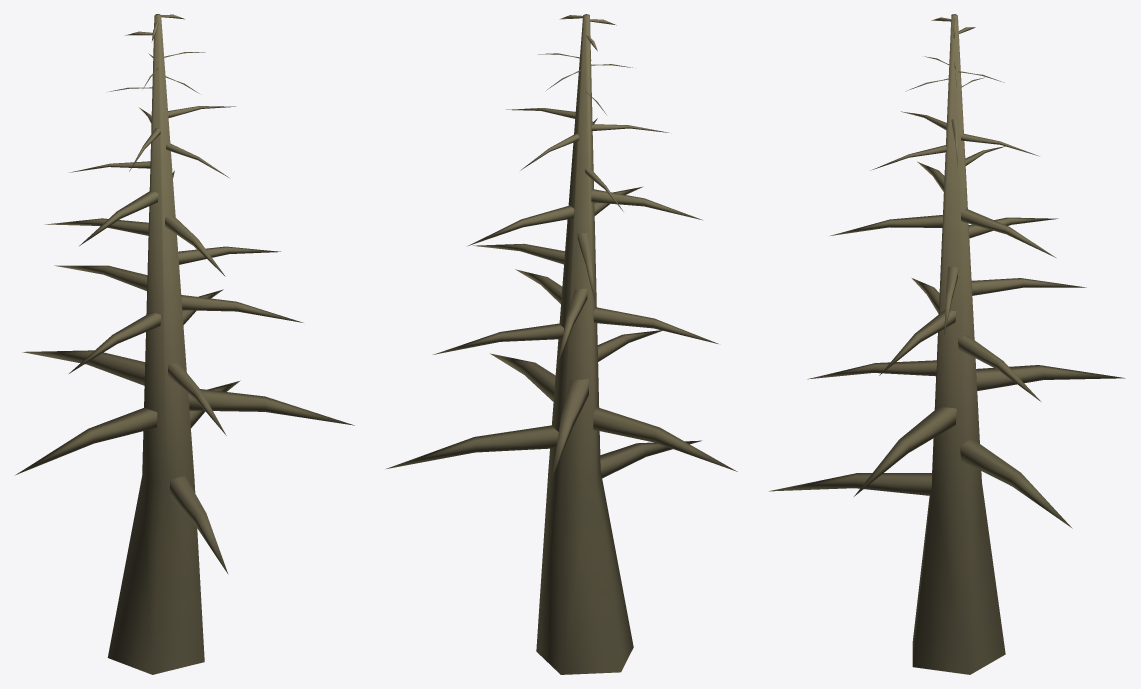
File: pack03_foliage2_26.fbx
3 renders of one model, left to right at view 1: azimuth 30°, elevation 25°; view 2: azimuth 150°, elevation 25°; view 3: azimuth 270°, elevation 25°, orthographic.
Visible parts, largest first — view 1: Tree.024; view 2: Tree.024; view 3: Tree.024.
Part boxes in pixels (x1=…): Tree.024: x1=15, y1=14, x2=354, y2=674; Tree.024: x1=385, y1=14, x2=737, y2=674; Tree.024: x1=769, y1=14, x2=1125, y2=674.
Bounding box in the file's own units: 269 × 556 × 283.
1 material, 1 textured.
